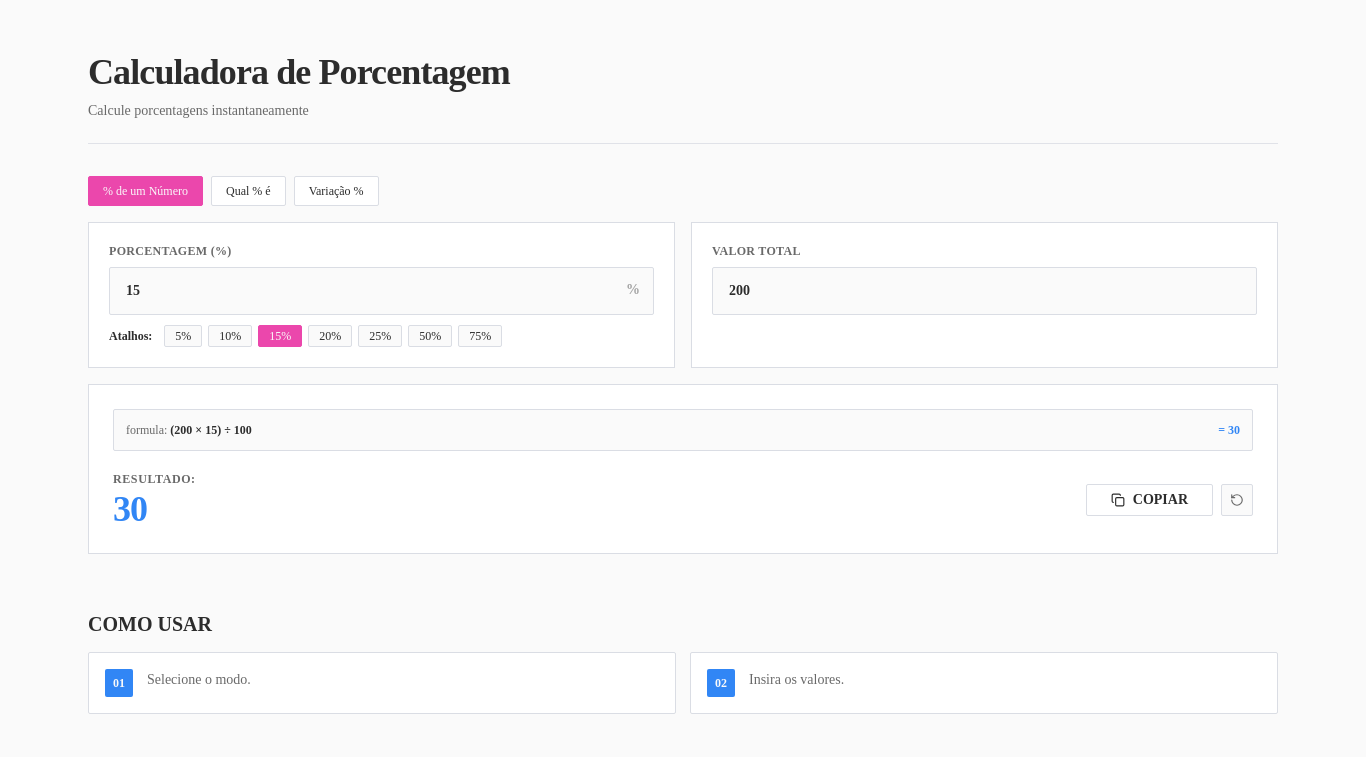
Test case: PercentageCalculatorClient › copies calculation result to clipboard
Click the button "Copiar": {"x": 1149, "y": 500} [1086,484,1213,516]
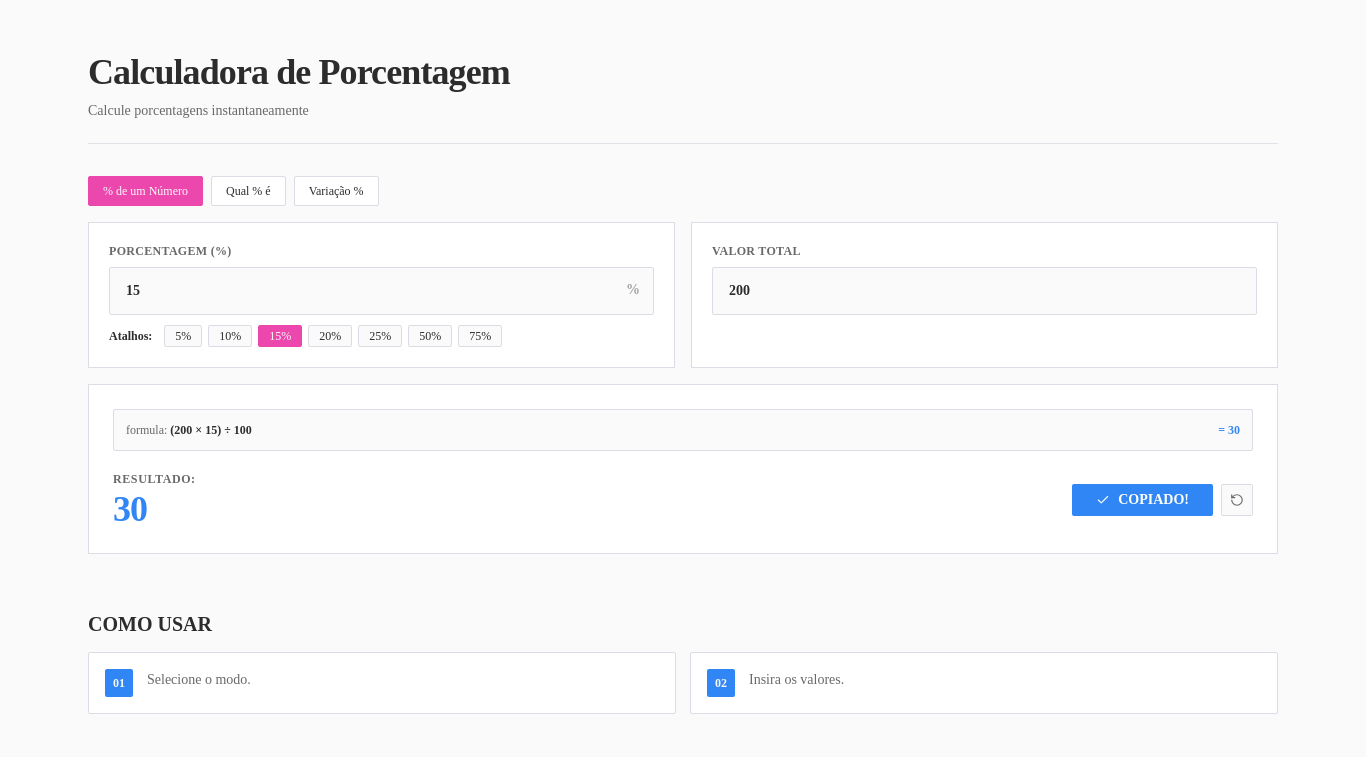
Check: the text "Copiado!" is shown, box [1118,490,1189,510]
